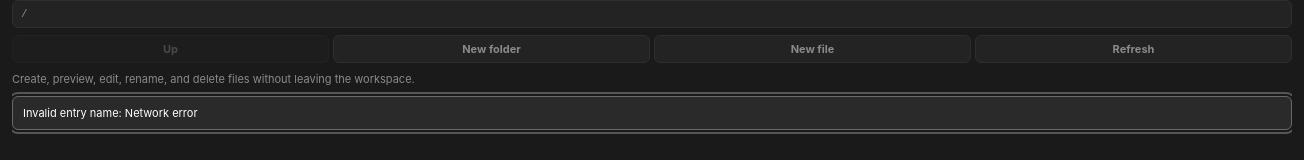
WorkspaceFilePanel - Error Clearing on Success › should clear error when refresh succeeds after previous error
expect the text "Invalid entry name: Network error" is shown: met, box [12, 96, 1292, 130]
Click the button "Refresh".
click(1134, 49)  # box [975, 35, 1292, 63]
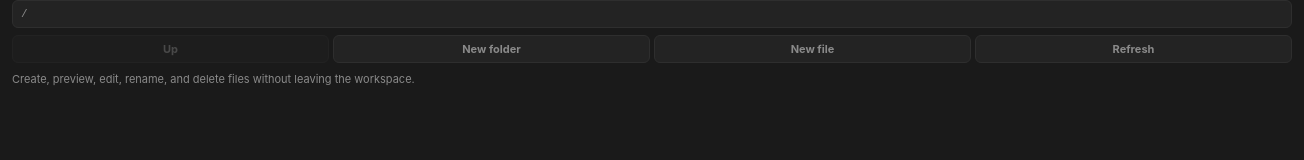
expect the text "Network error" is gone: met
